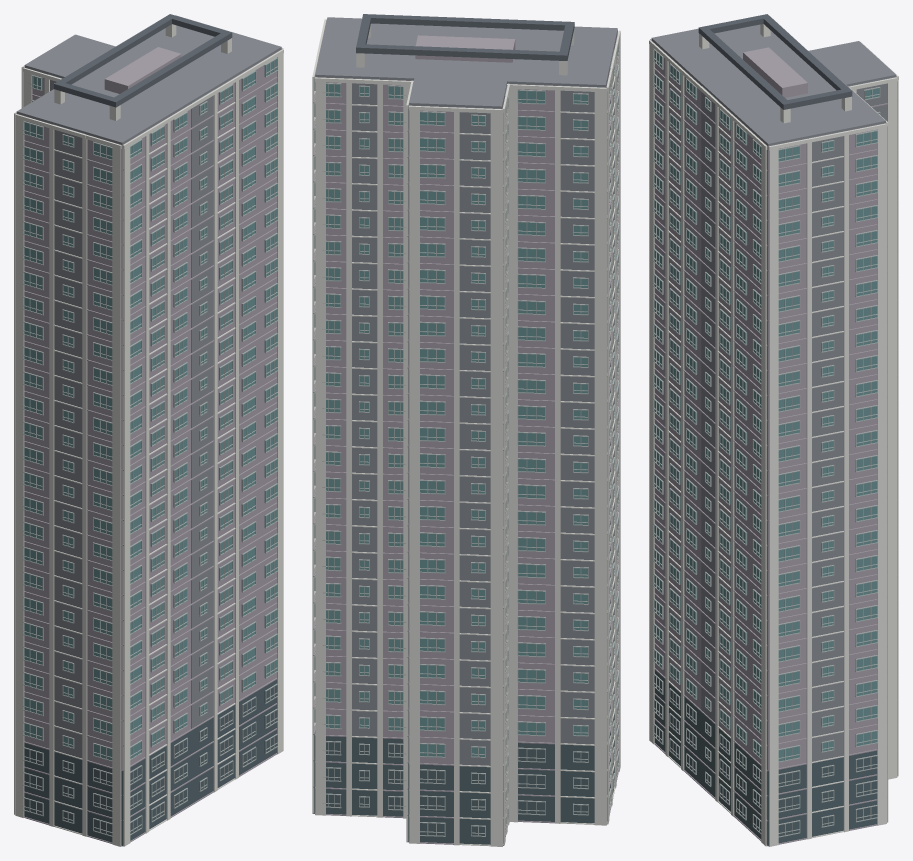
Rendered from bespoke-shinbanpo-xi-102.glb.
3 views of the same model, side by side, from view 1: azimuth 30°, elevation 25°; view 2: azimuth 150°, elevation 25°; view 3: azimuth 270°, elevation 25° (orthographic). The views are drawn at different scales.
Visible parts, largest first — view 1: SBX102_editable_SBX102_lavender_grey_metallic_panels, SBX102_editable_SBX102_white_vertical_frame, SBX102_editable_SBX102_grey_inset_service_walls, SBX102_editable_SBX102_pale_teal_glazing, SBX102_editable_SBX102_thin_grey_window_mullions, SBX102_editable_SBX102_dark_glazed_base, SBX102_editable_SBX102_broad_charcoal_roof_caps; view 2: SBX102_editable_SBX102_white_vertical_frame, SBX102_editable_SBX102_grey_inset_service_walls, SBX102_editable_SBX102_lavender_grey_metallic_panels, SBX102_editable_SBX102_pale_teal_glazing, SBX102_editable_SBX102_thin_grey_window_mullions, SBX102_editable_SBX102_dark_glazed_base, SBX102_editable_SBX102_broad_charcoal_roof_caps; view 3: SBX102_editable_SBX102_lavender_grey_metallic_panels, SBX102_editable_SBX102_white_vertical_frame, SBX102_editable_SBX102_grey_inset_service_walls, SBX102_editable_SBX102_thin_grey_window_mullions, SBX102_editable_SBX102_pale_teal_glazing, SBX102_editable_SBX102_dark_glazed_base, SBX102_editable_SBX102_broad_charcoal_roof_caps.
Boxes of the visible parts, left/top/right/bottom form: SBX102_editable_SBX102_lavender_grey_metallic_panels: left=17, top=47, right=281, bottom=846; SBX102_editable_SBX102_white_vertical_frame: left=14, top=24, right=283, bottom=846; SBX102_editable_SBX102_grey_inset_service_walls: left=16, top=15, right=281, bottom=758; SBX102_editable_SBX102_pale_teal_glazing: left=24, top=59, right=277, bottom=760; SBX102_editable_SBX102_thin_grey_window_mullions: left=23, top=57, right=277, bottom=836; SBX102_editable_SBX102_dark_glazed_base: left=24, top=679, right=277, bottom=846; SBX102_editable_SBX102_broad_charcoal_roof_caps: left=54, top=14, right=232, bottom=107; SBX102_editable_SBX102_white_vertical_frame: left=312, top=19, right=620, bottom=846; SBX102_editable_SBX102_grey_inset_service_walls: left=315, top=17, right=617, bottom=765; SBX102_editable_SBX102_lavender_grey_metallic_panels: left=313, top=32, right=618, bottom=845; SBX102_editable_SBX102_pale_teal_glazing: left=314, top=66, right=618, bottom=756; SBX102_editable_SBX102_thin_grey_window_mullions: left=314, top=40, right=619, bottom=836; SBX102_editable_SBX102_dark_glazed_base: left=314, top=696, right=618, bottom=844; SBX102_editable_SBX102_broad_charcoal_roof_caps: left=356, top=14, right=574, bottom=60; SBX102_editable_SBX102_lavender_grey_metallic_panels: left=651, top=40, right=897, bottom=846; SBX102_editable_SBX102_white_vertical_frame: left=649, top=17, right=898, bottom=846; SBX102_editable_SBX102_grey_inset_service_walls: left=651, top=24, right=896, bottom=761; SBX102_editable_SBX102_thin_grey_window_mullions: left=653, top=49, right=880, bottom=837; SBX102_editable_SBX102_pale_teal_glazing: left=654, top=50, right=879, bottom=761; SBX102_editable_SBX102_dark_glazed_base: left=654, top=670, right=877, bottom=845; SBX102_editable_SBX102_broad_charcoal_roof_caps: left=698, top=14, right=852, bottom=109.
Bounding box in the file's own units: 32.08 × 82.25 × 25.82.
